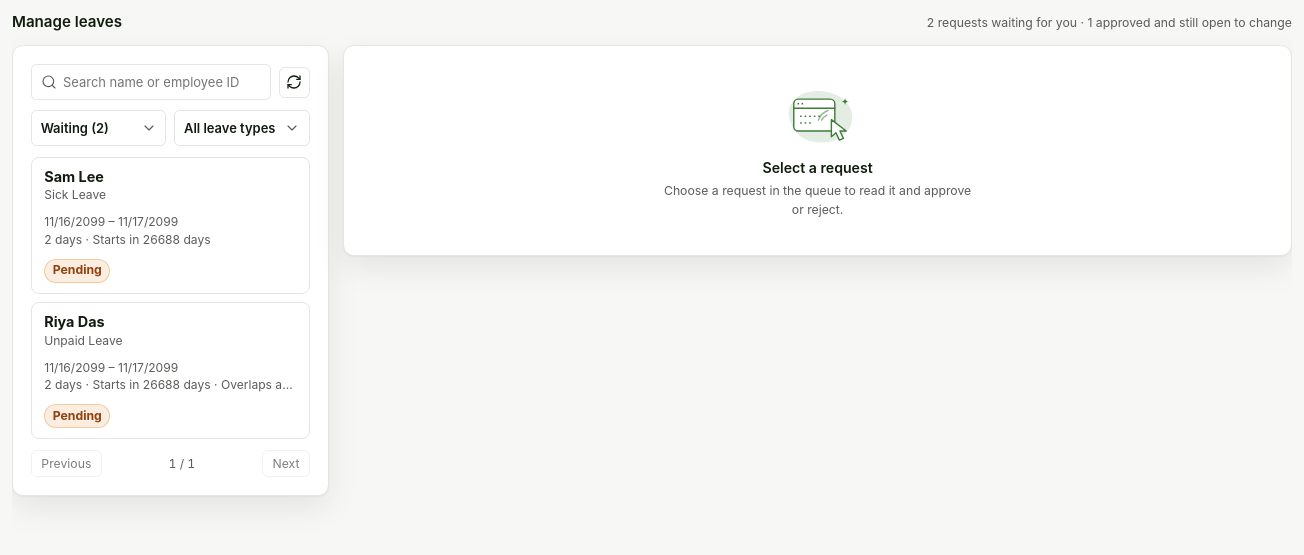
Test: LeaveApprovalWorkspace › shows the history, with the earlier rejection, of a resubmitted request
Click the text "Sam Lee". click: [74, 176]
box: [44,168,104,185]
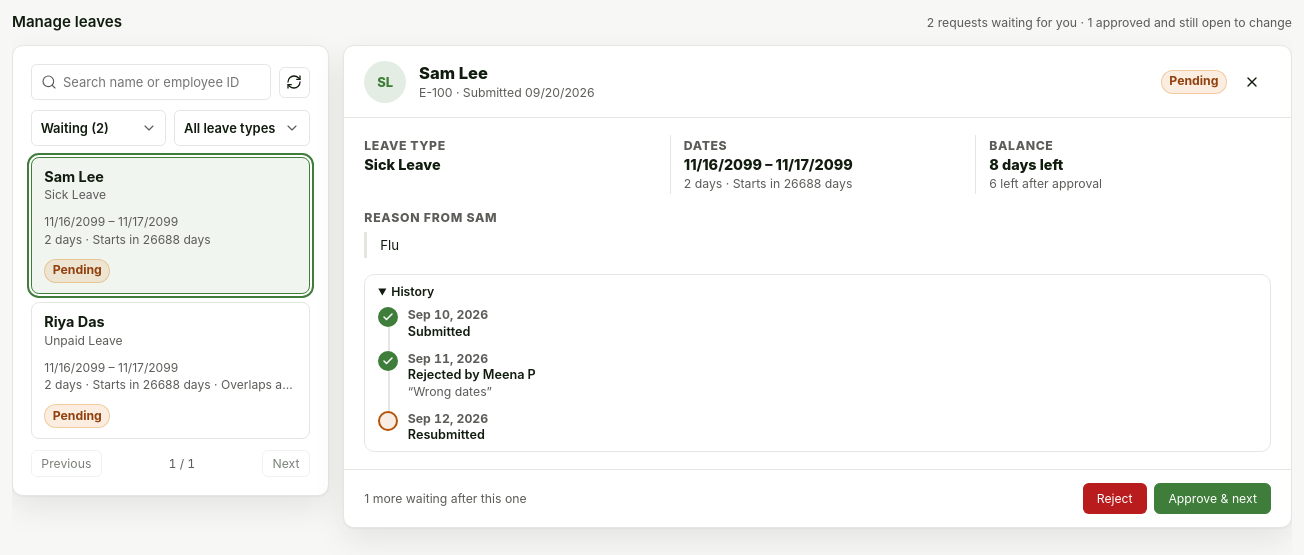
Expected: the list named "Leave history" shows "Rejected by Meena P", [408,367,536,382]
Expected: the list named "Leave history" shows "“Wrong dates”", [408,384,492,399]
